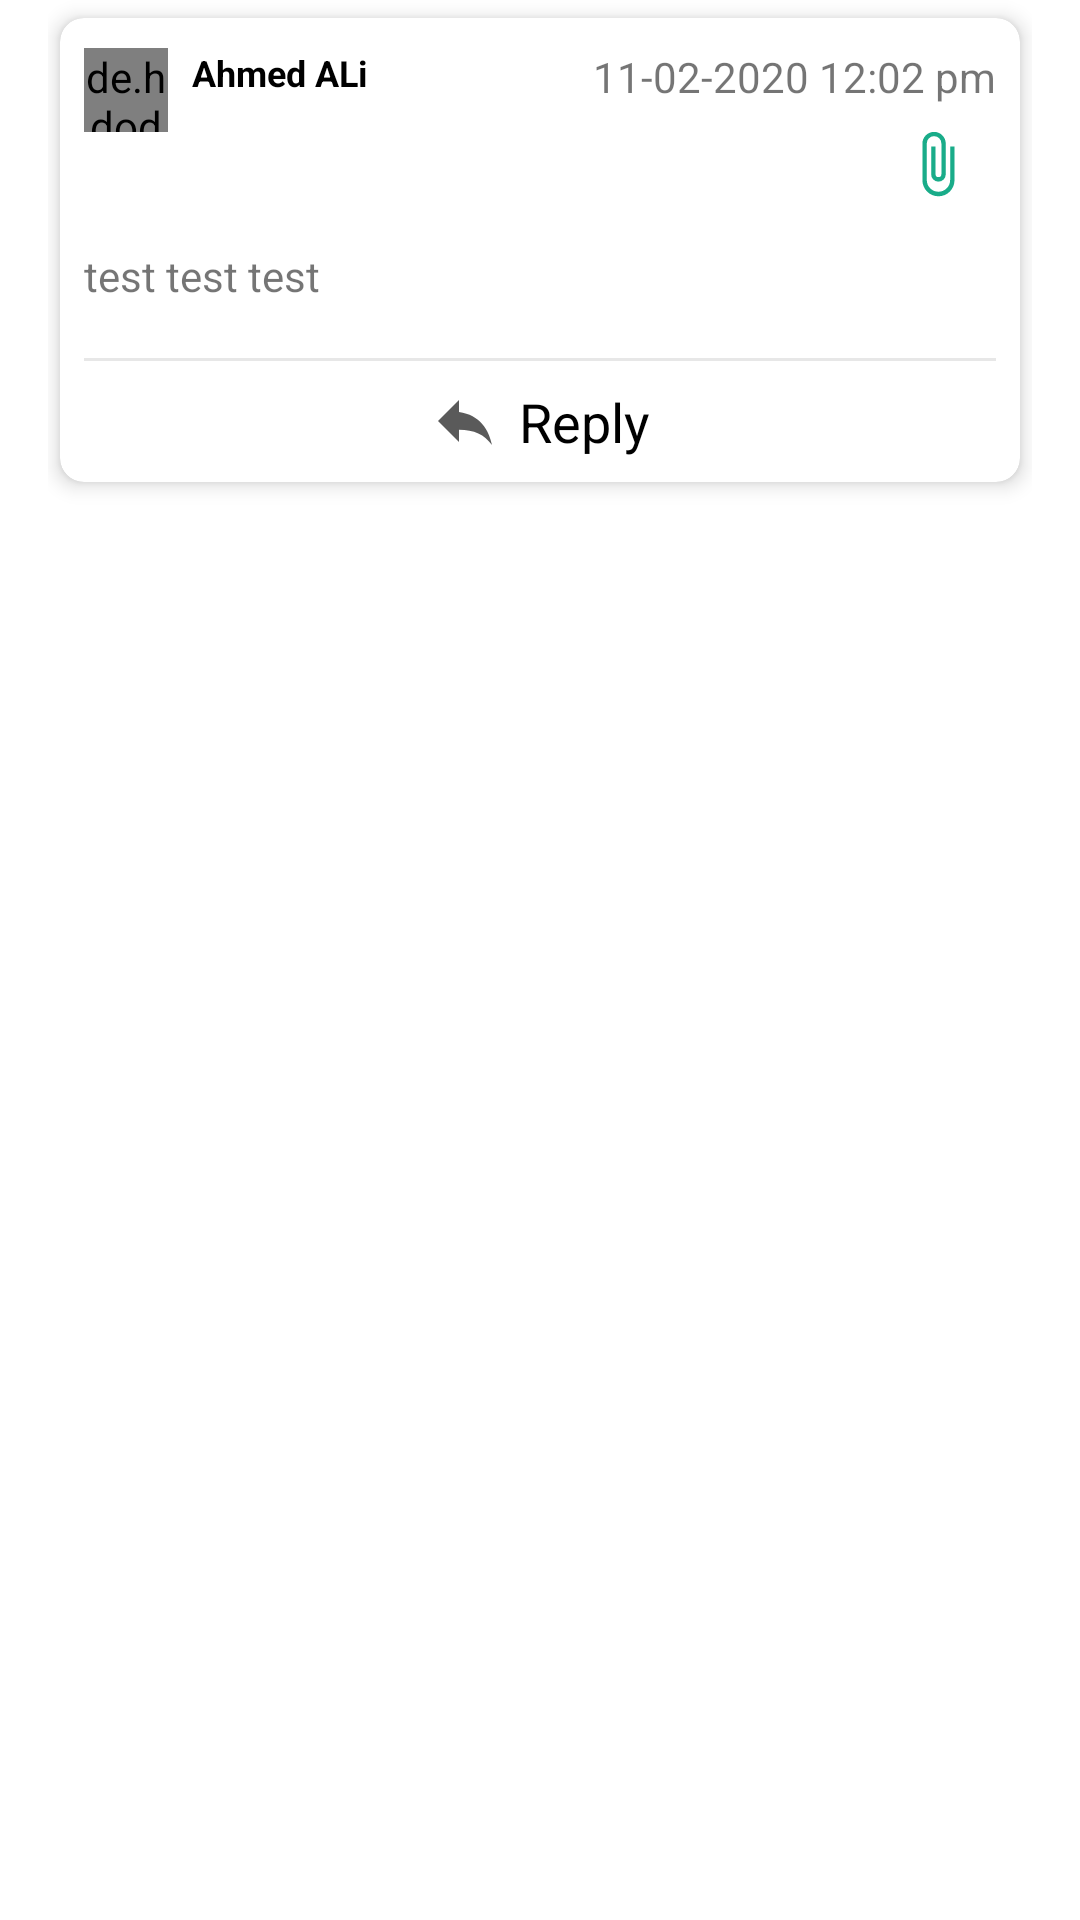

Screen size 1080 x 1920. Icon name, then its box in pixels as bbox=[x1, y1, x2, y2]:
attach file: bbox=[922, 132, 955, 197]
